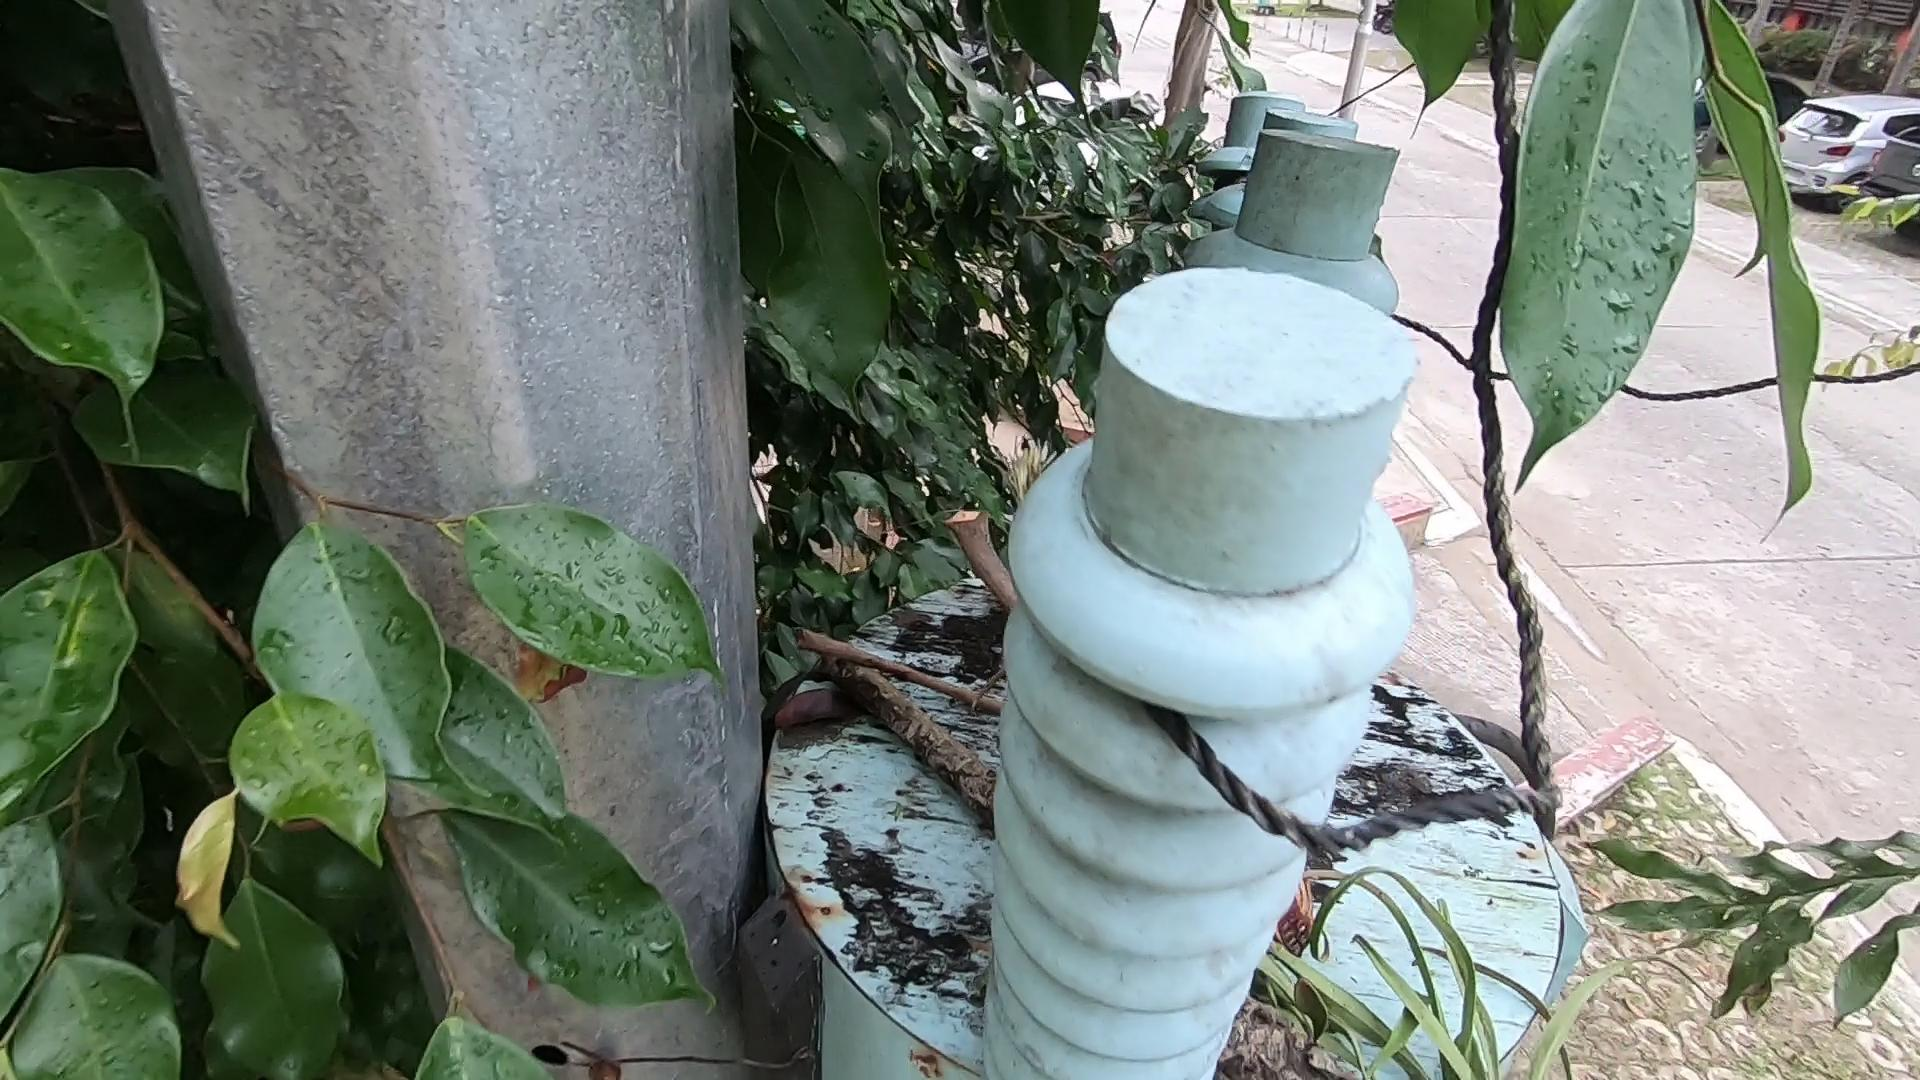branch with leaves: (829, 634, 1437, 1080)
leaf: (758, 665, 874, 744)
mahogany fruit: (1258, 847, 1354, 980)
tree branch: (791, 622, 1014, 724), (953, 476, 1072, 655)
